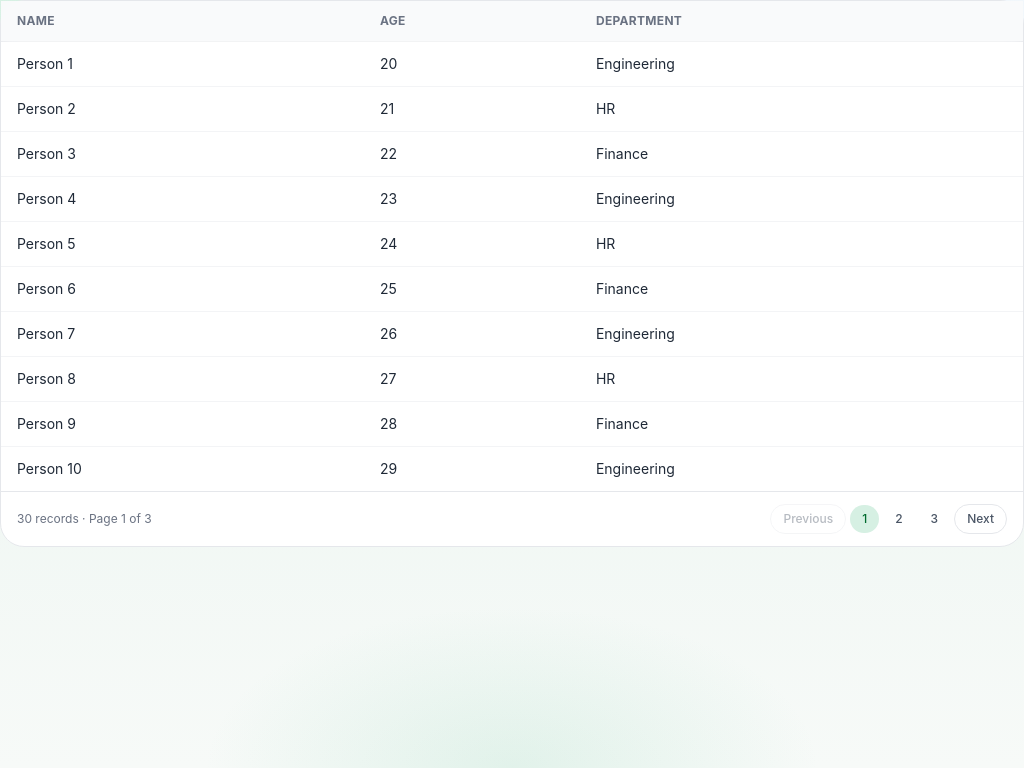
Test: DataTable › navigates to next page
The width and height of the screenshot is (1024, 768).
Click the button "Next" at (981, 519), box [954,504,1007,534]
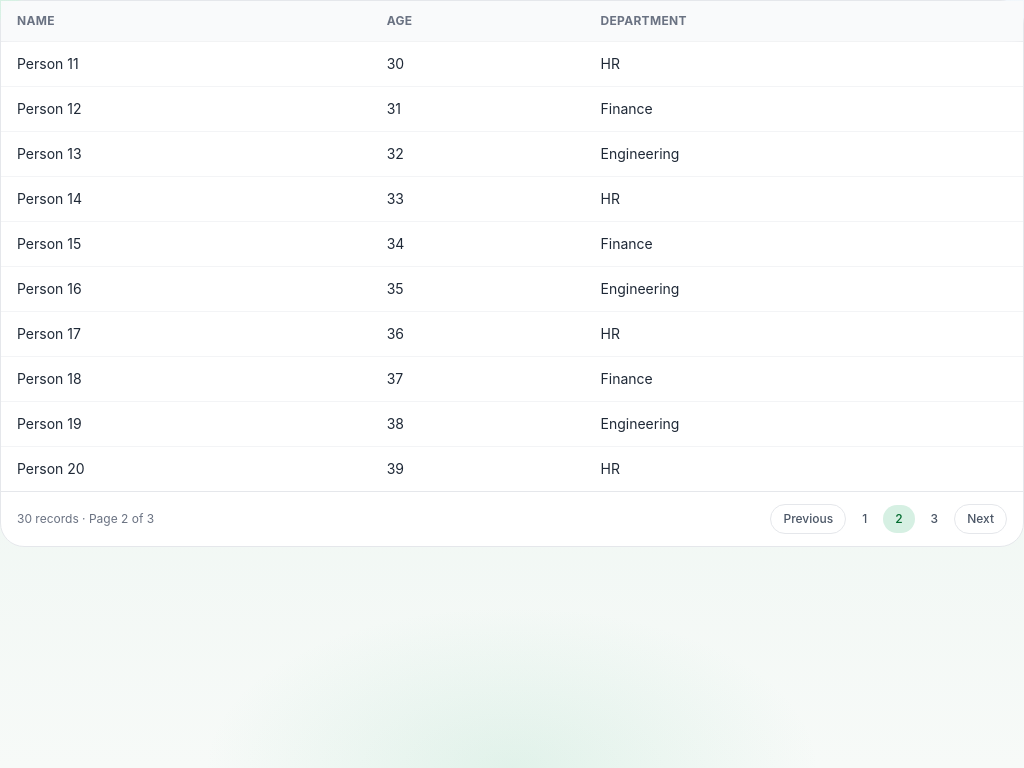
Check: the text "30 records · Page 2 of 3" is shown, box [17,511,154,527]
